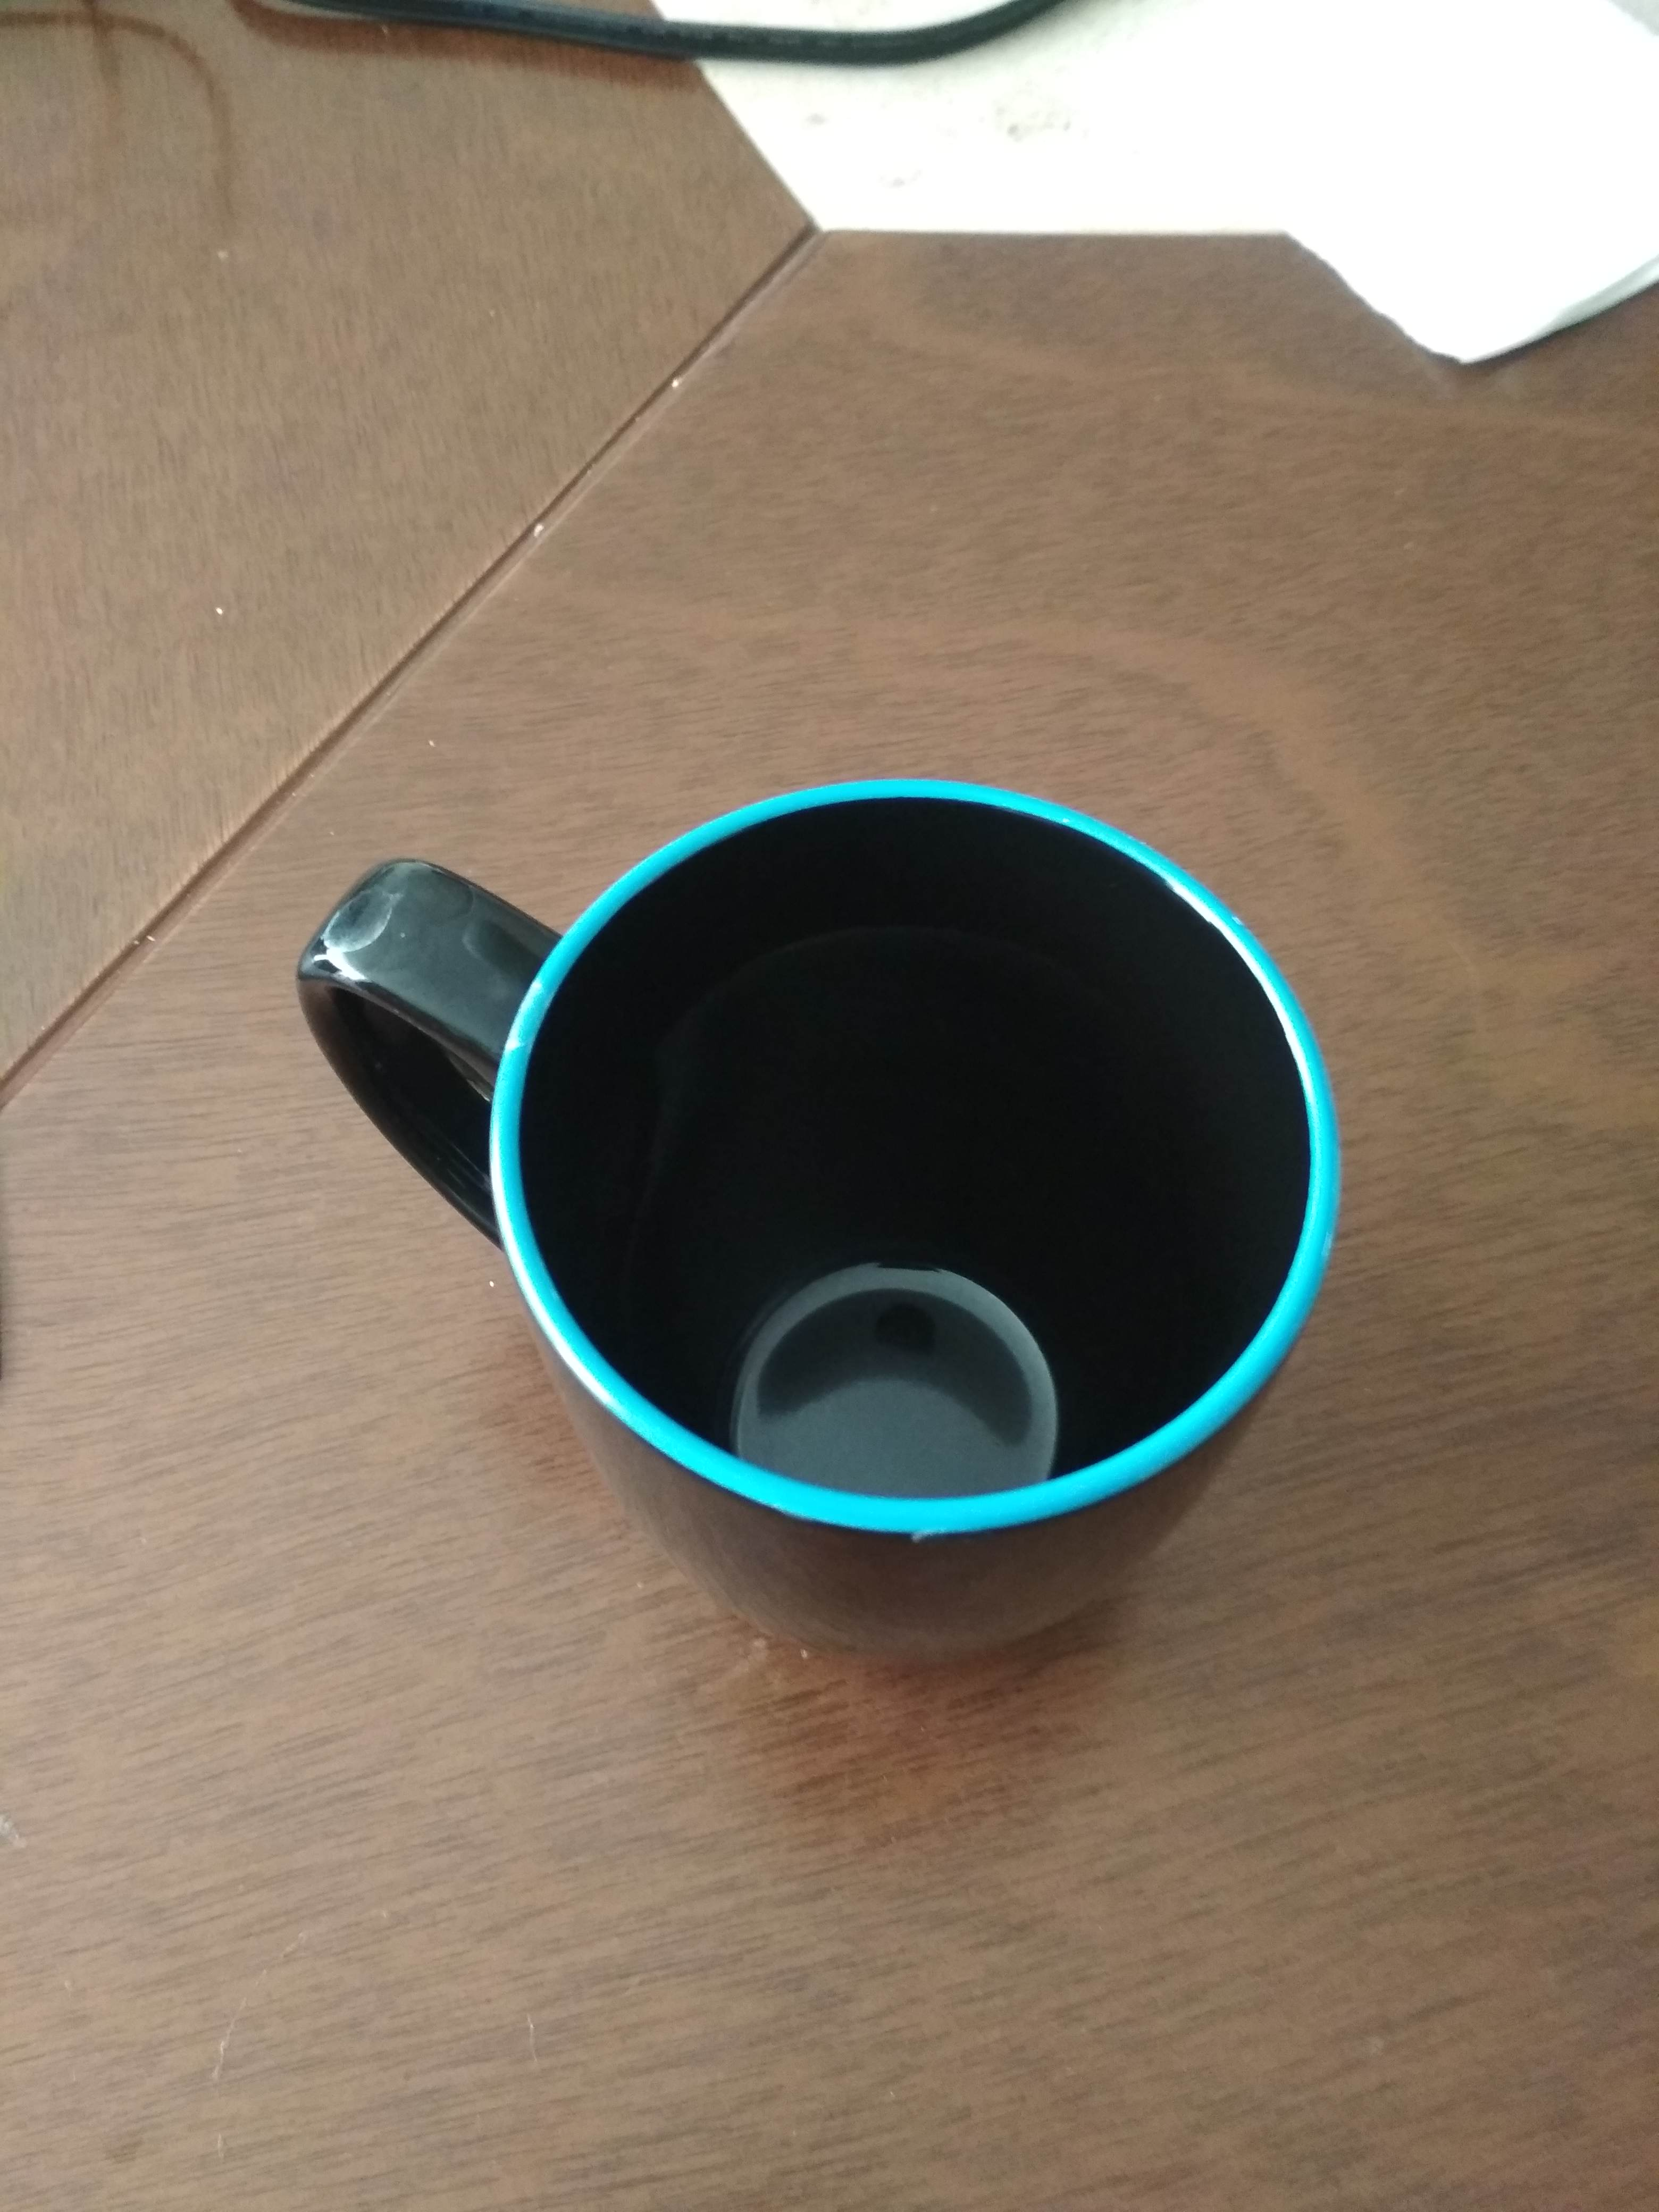cup: (268, 749, 1371, 1693)
